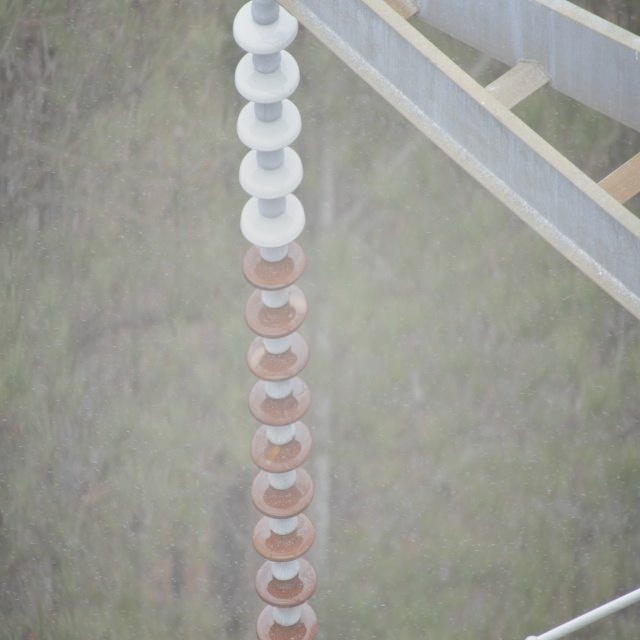insulator: (233, 3, 318, 640)
